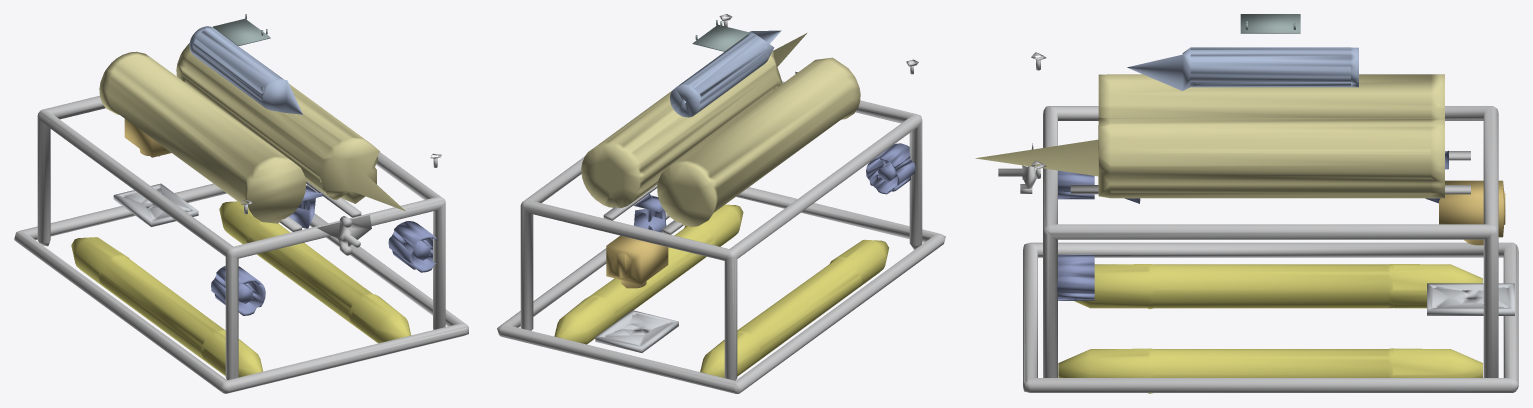
Rendered from mangustik-lod1.glb.
The picture shows the model from 3 angles, left to right: view 1: azimuth 30°, elevation 25°; view 2: azimuth 150°, elevation 25°; view 3: azimuth 270°, elevation 25°; orthographic projection. The views are drawn at different scales.
Parts seen in each view (by area): view 1: mangustik_lod1; view 2: mangustik_lod1; view 3: mangustik_lod1.
Part boxes in pixels (x1,y1,x2,y2): mangustik_lod1: (14,14,468,393); mangustik_lod1: (497,14,945,393); mangustik_lod1: (975,14,1518,393).
Bounding box in the file's own units: 0.8375 × 0.9205 × 1.36.
